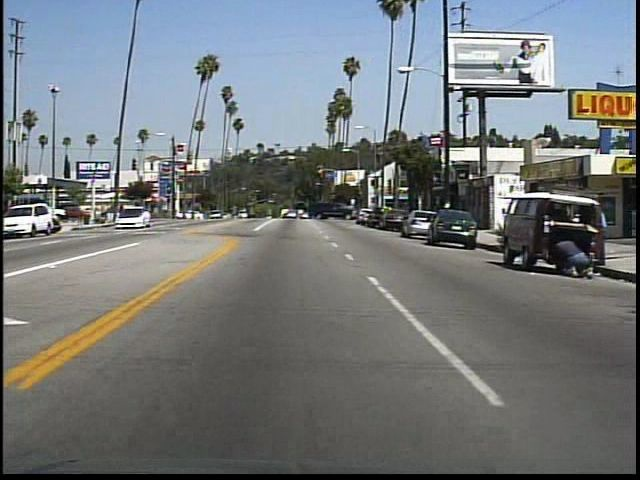person: (550, 234, 595, 283)
